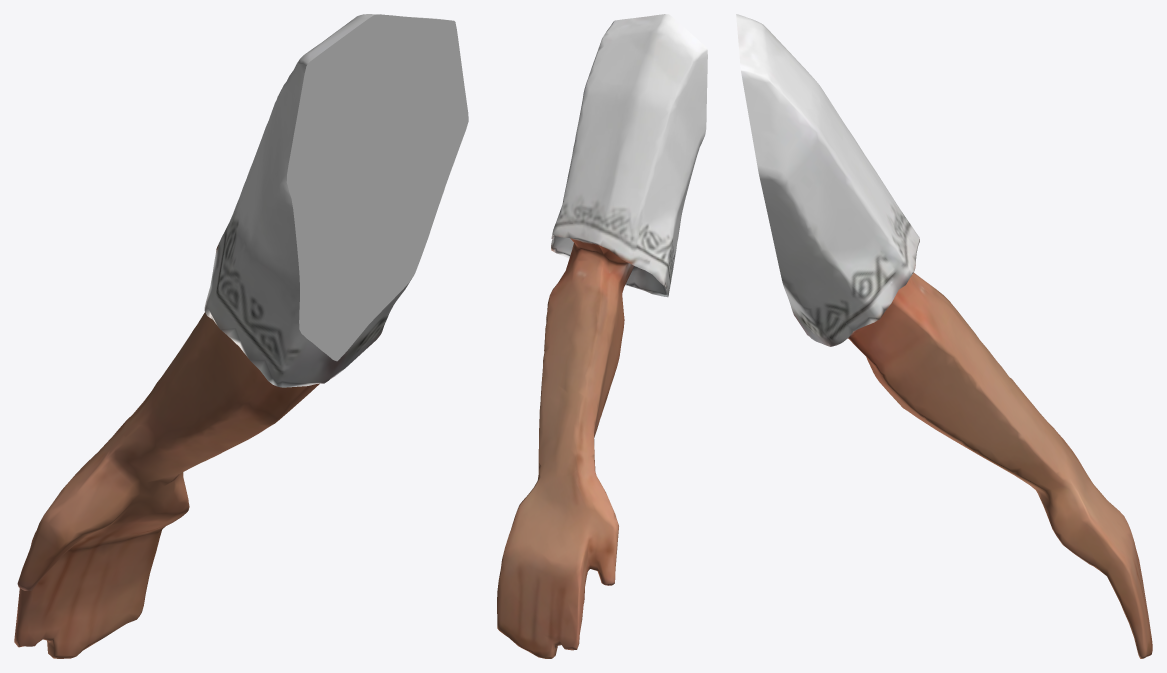
File: right_Arm.obj
3 renders of one model, left to right at view 1: azimuth 30°, elevation 25°; view 2: azimuth 150°, elevation 25°; view 3: azimuth 270°, elevation 25°, orthographic. The views are drawn at different scales.
Visible parts, largest first — view 1: Right_Arm; view 2: Right_Arm; view 3: Right_Arm.
Boxes of the visible parts, x1,y1,x2,y2 form: Right_Arm: (14,14,468,658); Right_Arm: (497,14,707,658); Right_Arm: (736,14,1152,658).
Size of the model in its own units: 0.0222 by 0.0706 by 0.0405.
Materials: 1 (1 with a texture image).
